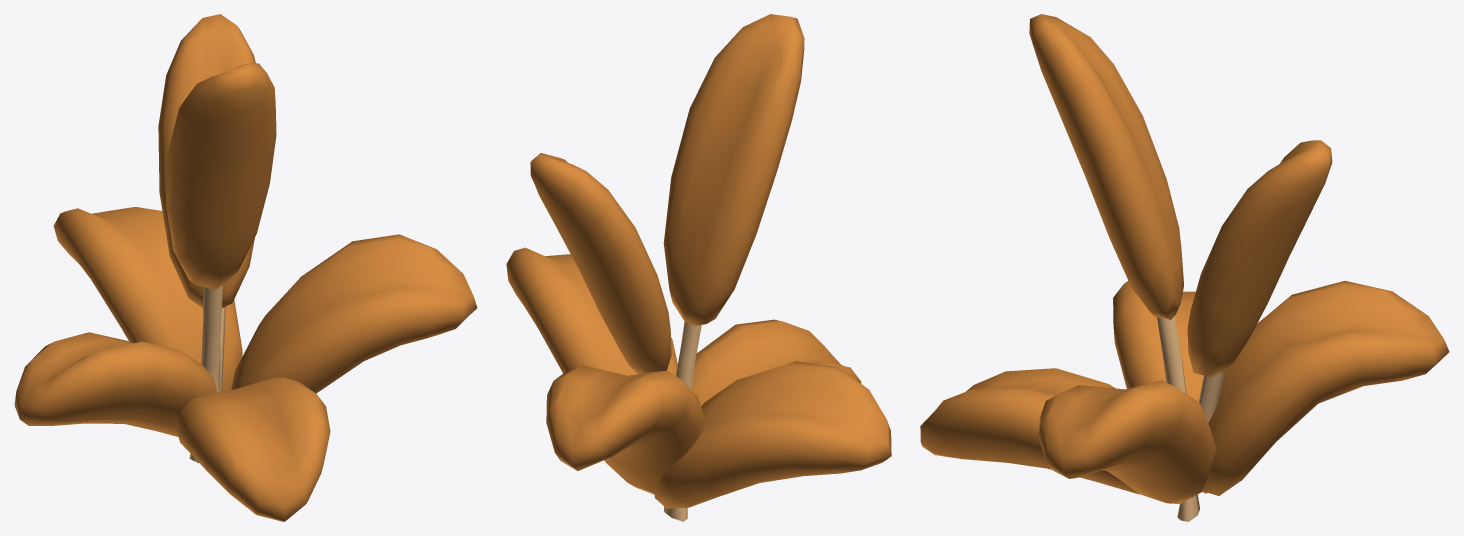
File: Herb_B_03.fbx
3 views of the same model, side by side, from view 1: azimuth 30°, elevation 25°; view 2: azimuth 150°, elevation 25°; view 3: azimuth 270°, elevation 25° (orthographic). The views are drawn at different scales.
Visible parts, largest first — view 1: Herb_B_03_LOD0; view 2: Herb_B_03_LOD0; view 3: Herb_B_03_LOD0.
Boxes of the visible parts, x1,y1,x2,y2 form: Herb_B_03_LOD0: [14, 14, 477, 521]; Herb_B_03_LOD0: [506, 14, 891, 521]; Herb_B_03_LOD0: [920, 14, 1449, 521].
Size of what is drawn, in the model's own units: 486 by 510 by 509.
